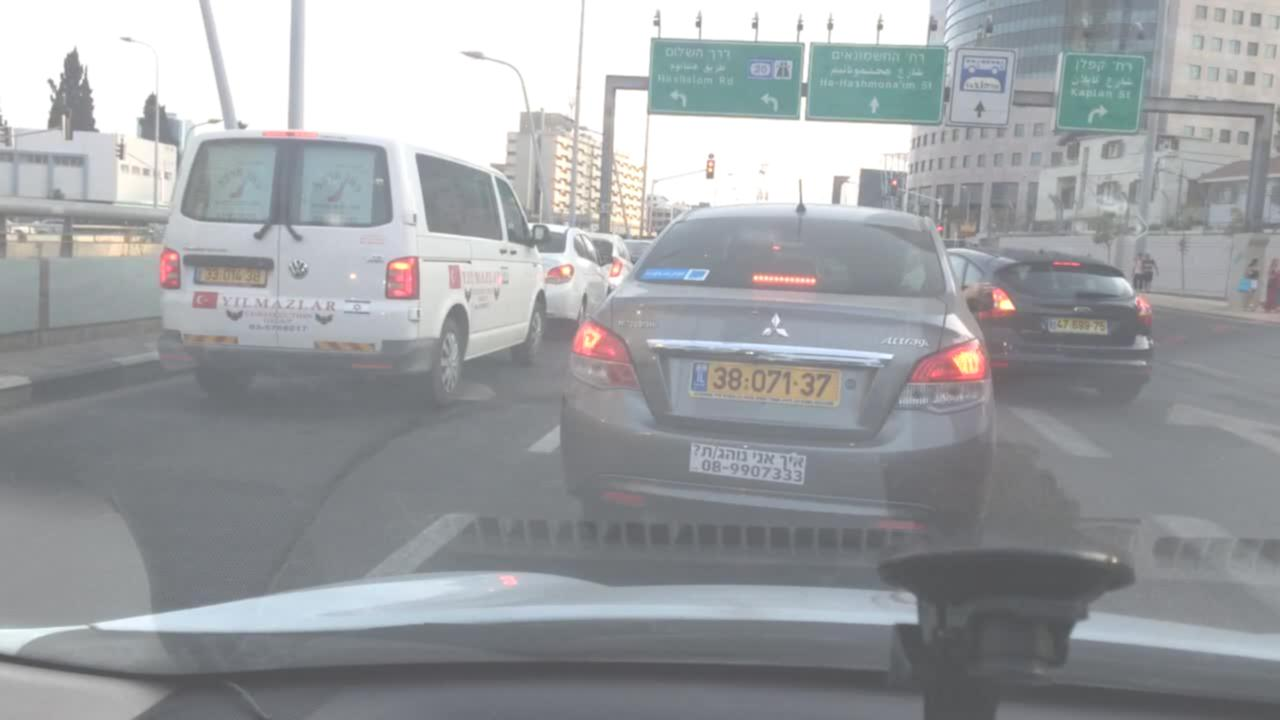Mitsubishi: (756, 304, 796, 346)
Volkswagen: (283, 254, 316, 284)
